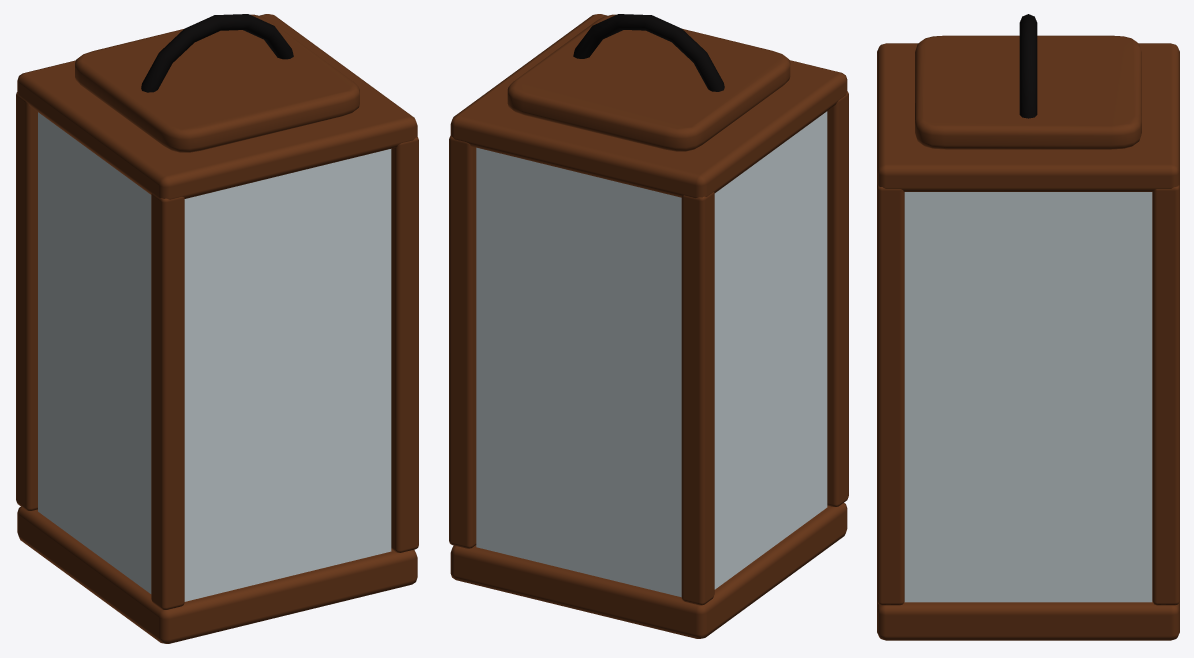
Rendered from outdoor-lantern-lod2.glb.
3 renders of one model, left to right at view 1: azimuth 30°, elevation 25°; view 2: azimuth 150°, elevation 25°; view 3: azimuth 270°, elevation 25°, orthographic. The views are drawn at different scales.
Visible parts, largest first — view 1: Lantern glass, Oiled teak, Powder-coated bronze aluminium; view 2: Lantern glass, Oiled teak, Powder-coated bronze aluminium; view 3: Lantern glass, Oiled teak, Powder-coated bronze aluminium.
Boxes of the visible parts, box(x1,y1,x2,y2) form: Lantern glass: box(38, 112, 391, 601); Oiled teak: box(16, 14, 418, 643); Powder-coated bronze aluminium: box(141, 14, 293, 92); Lantern glass: box(476, 111, 827, 597); Oiled teak: box(449, 14, 848, 638); Powder-coated bronze aluminium: box(573, 14, 724, 91); Lantern glass: box(904, 192, 1152, 602); Oiled teak: box(877, 35, 1179, 640); Powder-coated bronze aluminium: box(1019, 14, 1037, 118).
Bounding box in the file's own units: 0.3048 × 0.6185 × 0.3048.
